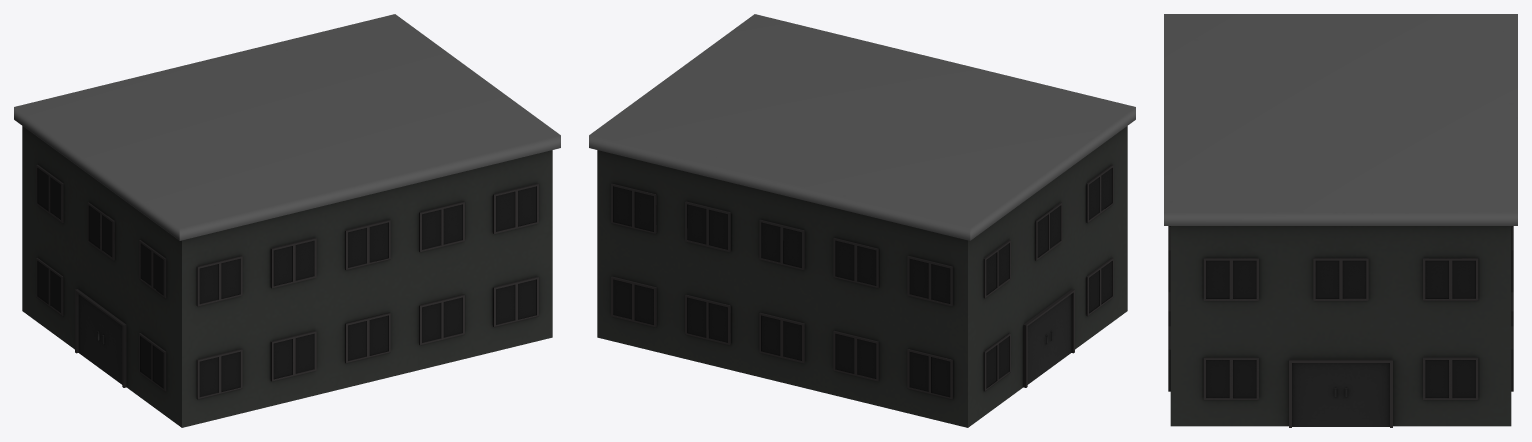
Rendered from HQ_Short.fbx.
3 renders of one model, left to right at view 1: azimuth 30°, elevation 25°; view 2: azimuth 150°, elevation 25°; view 3: azimuth 270°, elevation 25°, orthographic. The views are drawn at different scales.
Parts seen in each view (by area): view 1: HQ_Short; view 2: HQ_Short; view 3: HQ_Short.
Boxes of the visible parts, box(x1,y1,x2,y2) form: HQ_Short: box(14, 14, 560, 427); HQ_Short: box(589, 14, 1135, 427); HQ_Short: box(1164, 14, 1517, 427).
Size of the model in its own units: 51.44 by 26.2 by 38.75.
